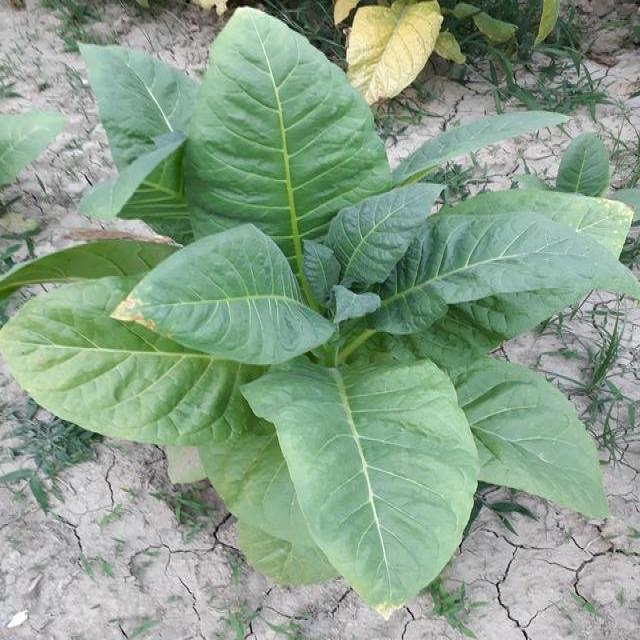crop: (11, 21, 640, 608)
